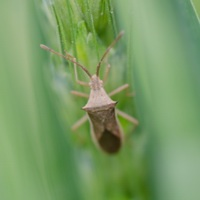insect: (40, 31, 137, 153)
